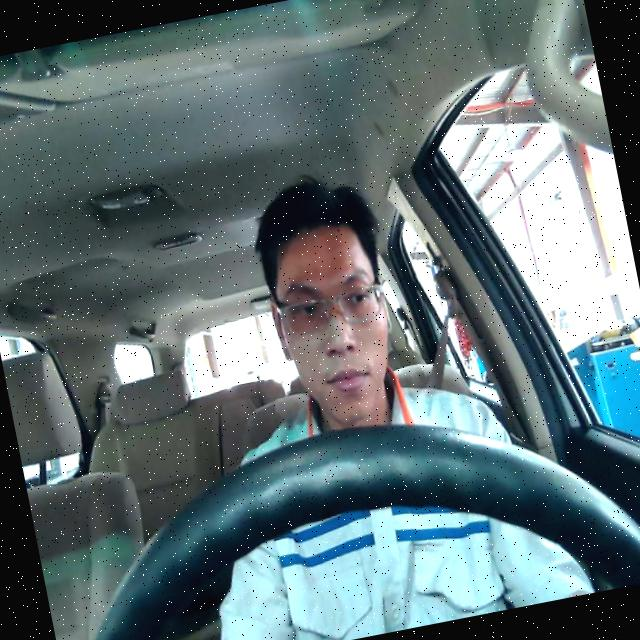focused: (255, 214, 405, 434)
